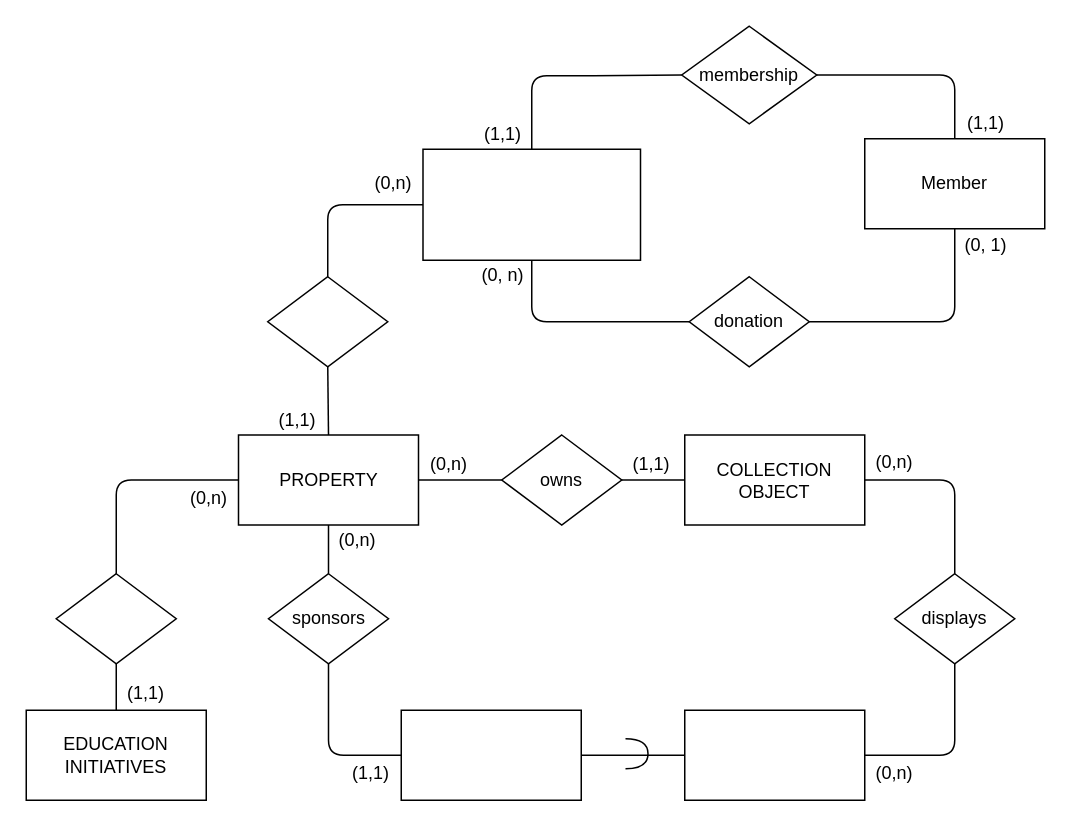
Some shapes in this 1071 by 827 pixel diagram are drawn without their labels. Here are the shapes that lost their labels. From the top down, the box of each, then its label:
(422, 148, 640, 260): COMPLEX
(266, 275, 388, 367): manages
(55, 572, 176, 664): instructs
(400, 709, 581, 800): EVENT
(683, 709, 865, 800): EXHIBITION
